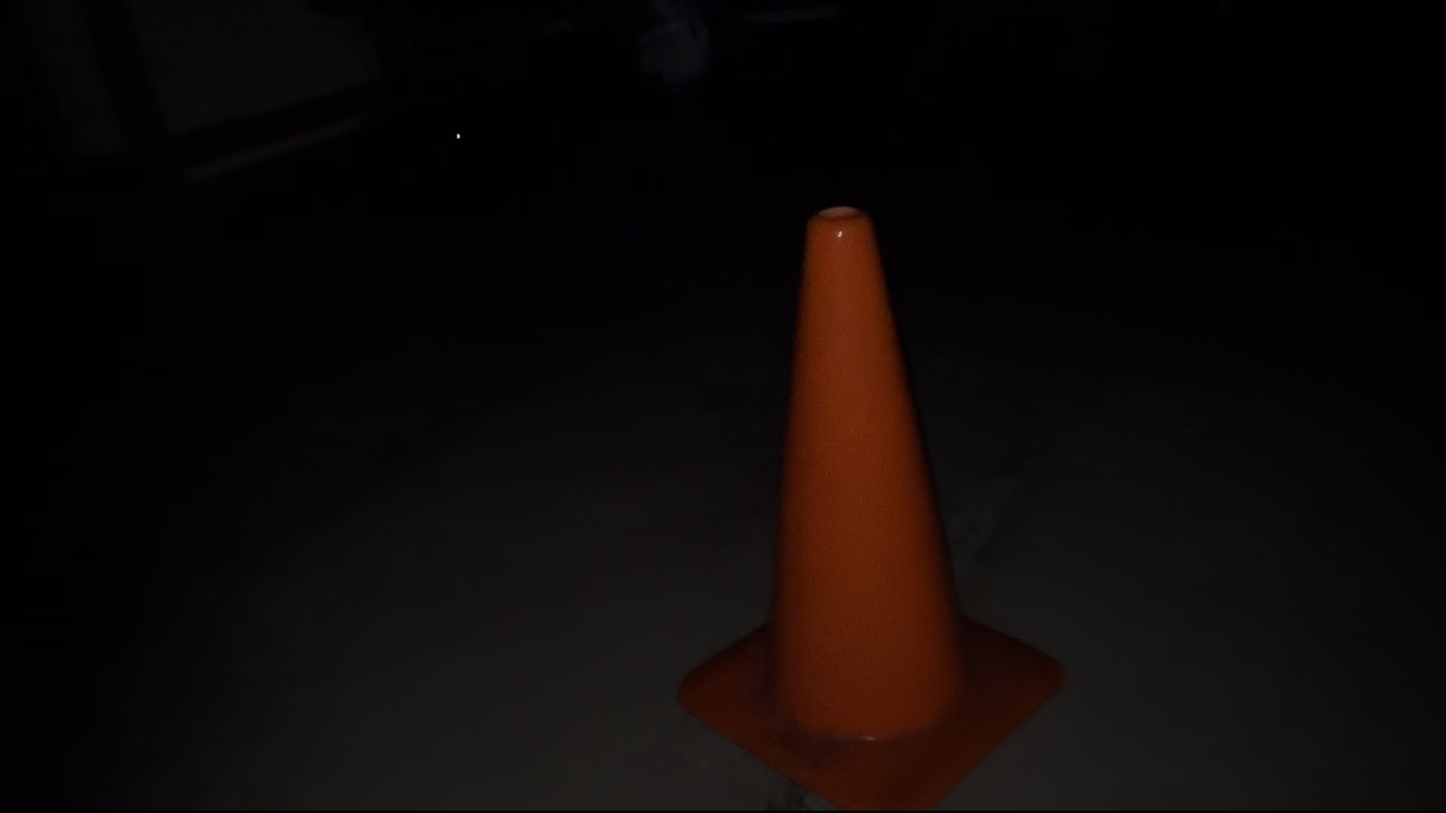traffic_cone: (676, 204, 1065, 810)
